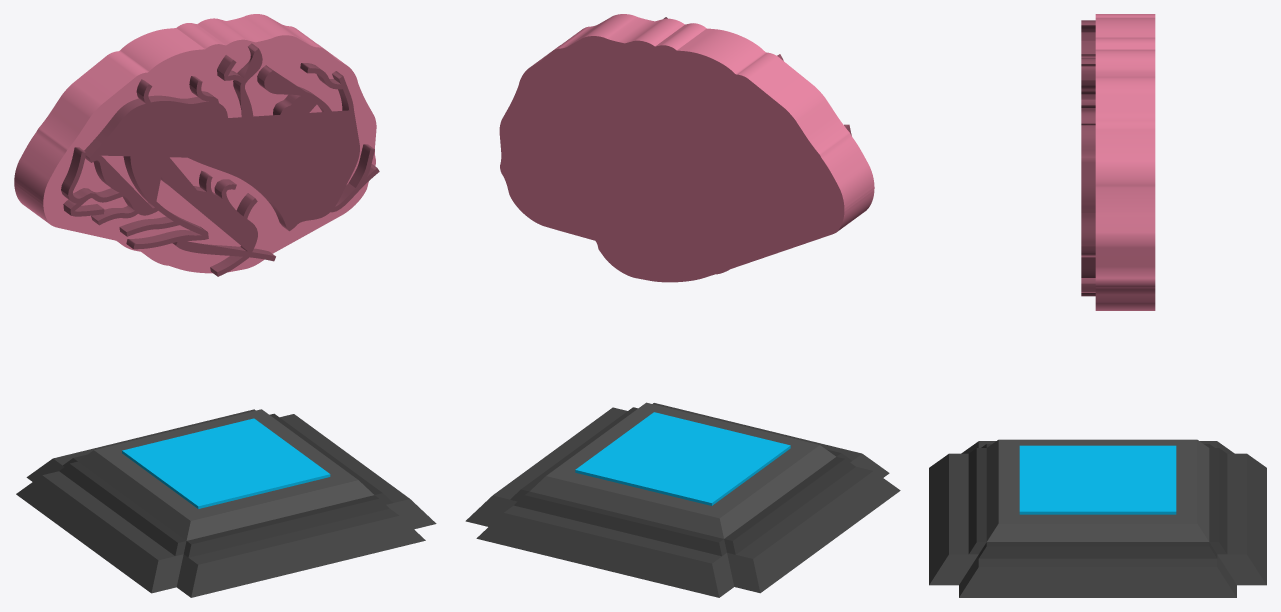
File: Brain on Display.fbx
The picture shows the model from 3 angles, left to right: view 1: azimuth 30°, elevation 25°; view 2: azimuth 150°, elevation 25°; view 3: azimuth 270°, elevation 25°; orthographic projection. The views are drawn at different scales.
Parts seen in each view (by area): view 1: Brain; view 2: Brain; view 3: Brain.
Boxes of the visible parts, x1,y1,x2,y2 form: Brain: (14, 14, 436, 597); Brain: (465, 14, 900, 597); Brain: (929, 14, 1266, 597).
Bounding box in the file's own units: 397 × 533 × 340.
